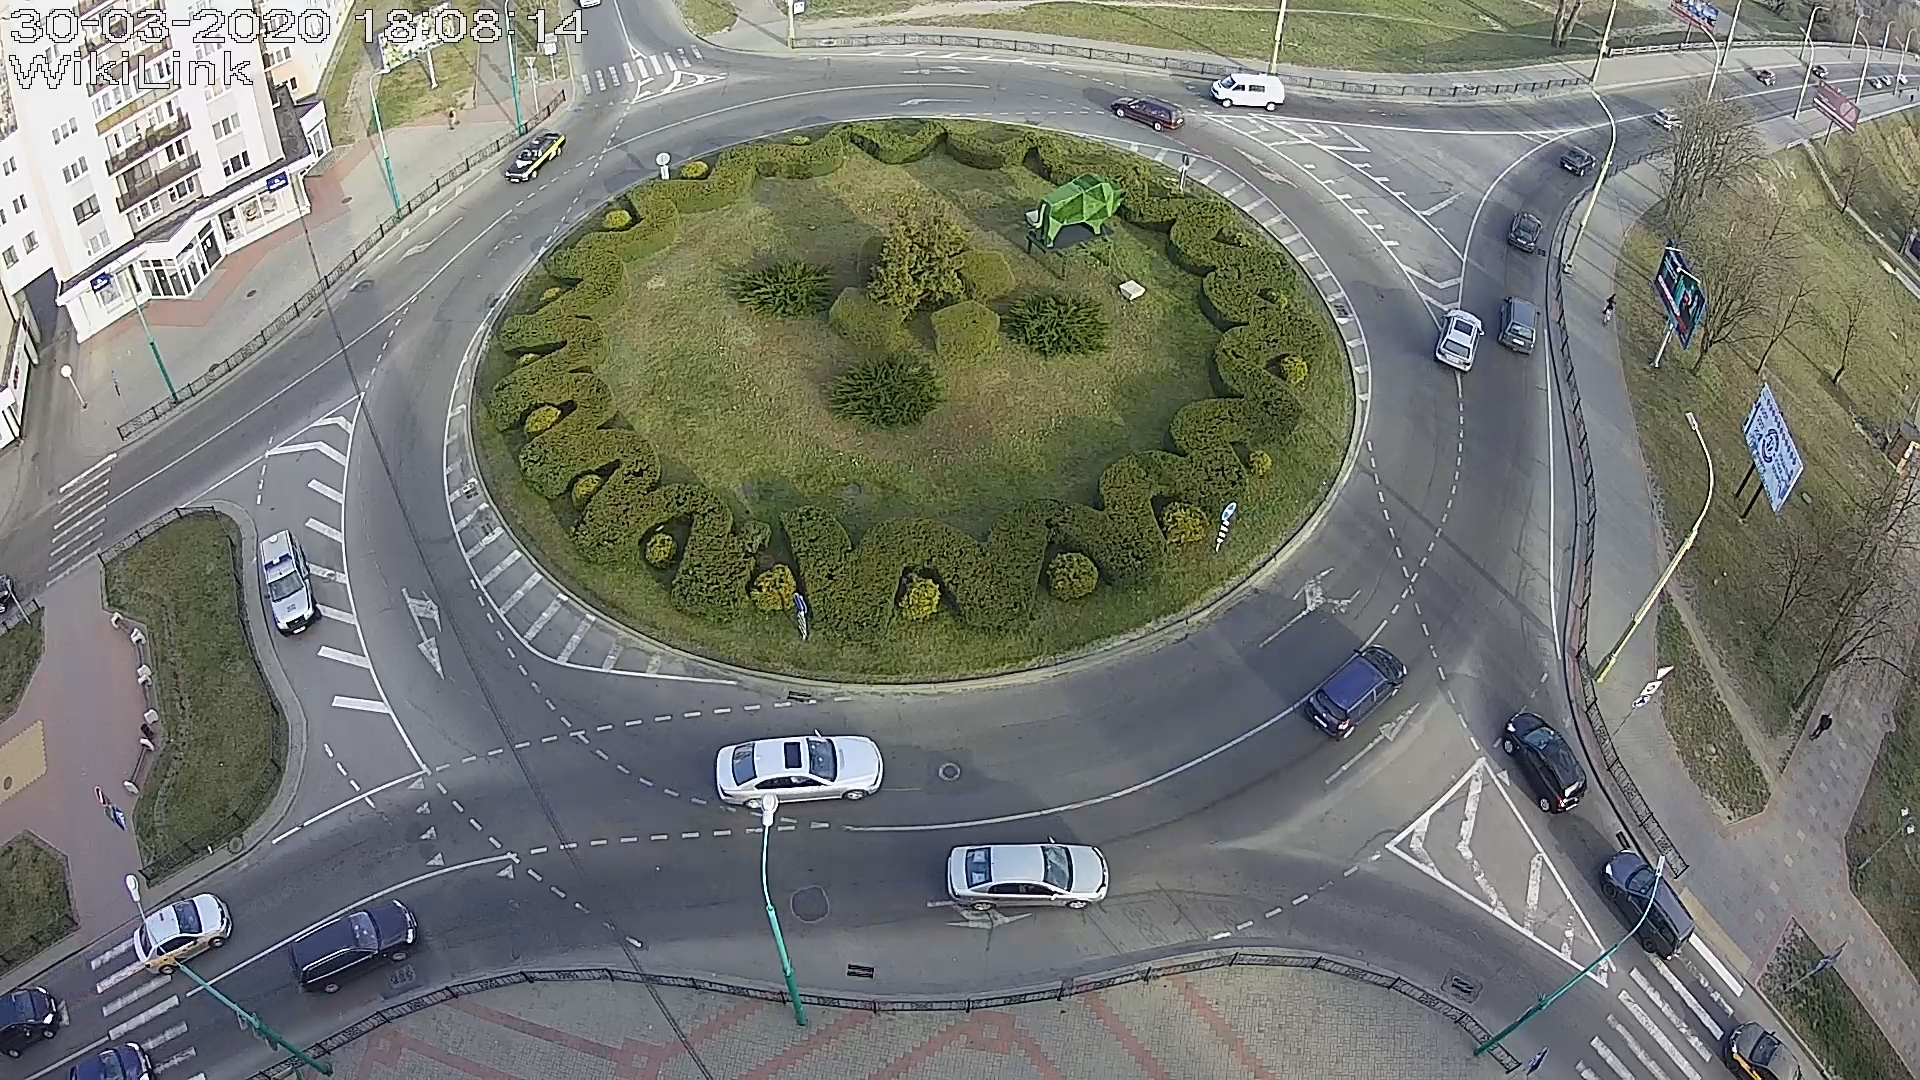car: (715, 728, 884, 810), (287, 898, 418, 994), (945, 837, 1110, 910), (1600, 848, 1696, 961), (1303, 644, 1407, 741), (1502, 712, 1588, 815), (133, 891, 233, 975), (258, 529, 322, 637), (1433, 309, 1485, 373), (504, 131, 566, 183), (1211, 73, 1284, 112), (1110, 96, 1185, 132), (1498, 295, 1540, 357), (1509, 211, 1543, 255), (1560, 146, 1597, 177)
